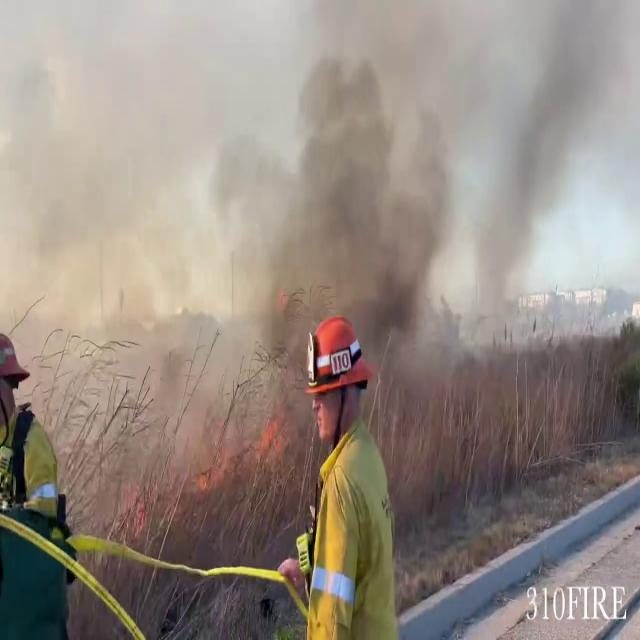Smoke: (9, 1, 636, 426)
